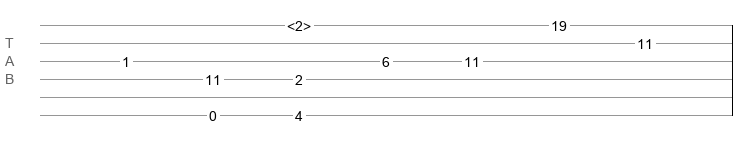0: (209, 108, 217, 118)
1: (122, 54, 130, 64)
11: (205, 72, 221, 82), (464, 54, 480, 64), (637, 36, 653, 46)
19: (551, 18, 567, 28)
2: (295, 72, 303, 82)
4: (295, 108, 303, 118)
6: (382, 54, 390, 64)
harmonic: (287, 18, 311, 28)
